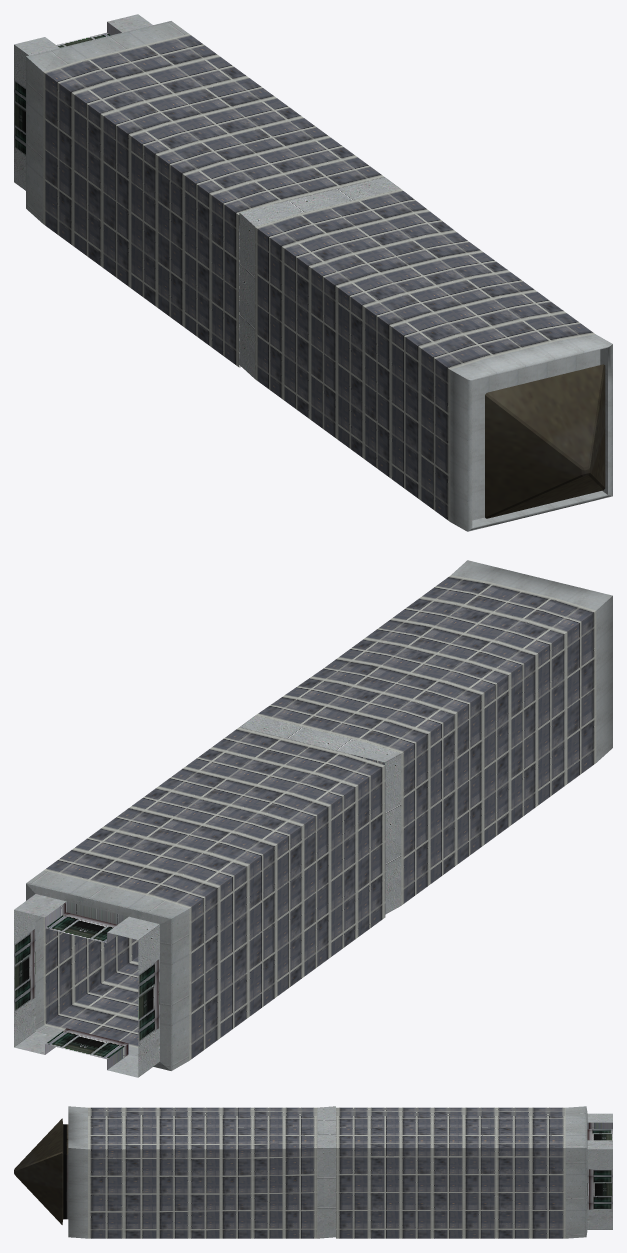
File: skyscraper_windowC_02.obj
3 views of the same model, one above another, from view 1: azimuth 30°, elevation 25°; view 2: azimuth 150°, elevation 25°; view 3: azimuth 270°, elevation 25° (orthographic). The views are drawn at different scales.
Parts seen in each view (by area): view 1: Object41; view 2: Object41; view 3: Object41.
Part boxes in pixels (box(x1,y1,x2,y2)): Object41: box(14, 14, 612, 531); Object41: box(14, 560, 612, 1077); Object41: box(14, 1106, 612, 1238).
Bounding box in the file's own units: 40.09 × 40.67 × 243.
6 materials, 6 textured.
